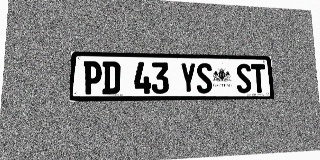3: (152, 62, 169, 94)
4: (134, 62, 151, 94)
D: (102, 61, 120, 94)
P: (83, 61, 102, 94)
S: (196, 63, 213, 93), (236, 63, 252, 93)
T: (251, 64, 266, 93)
Y: (180, 63, 196, 94)
